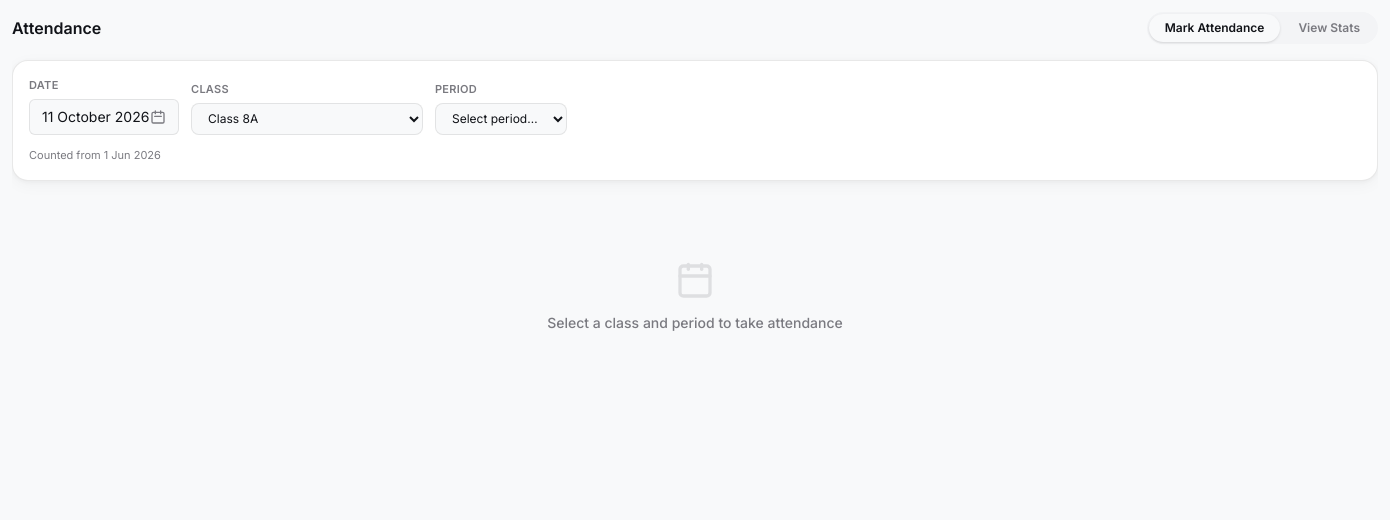
TeacherAttendancePanel: a class with no school year start date › C5: the option says '(attendance not set up)'; choosing it shows the notice, no 'Mark all present', Period disabled, 'Check again'
Select "P1" in the dropdown labelled "Period". click: x=501, y=119
box: left=435, top=103, right=567, bottom=135
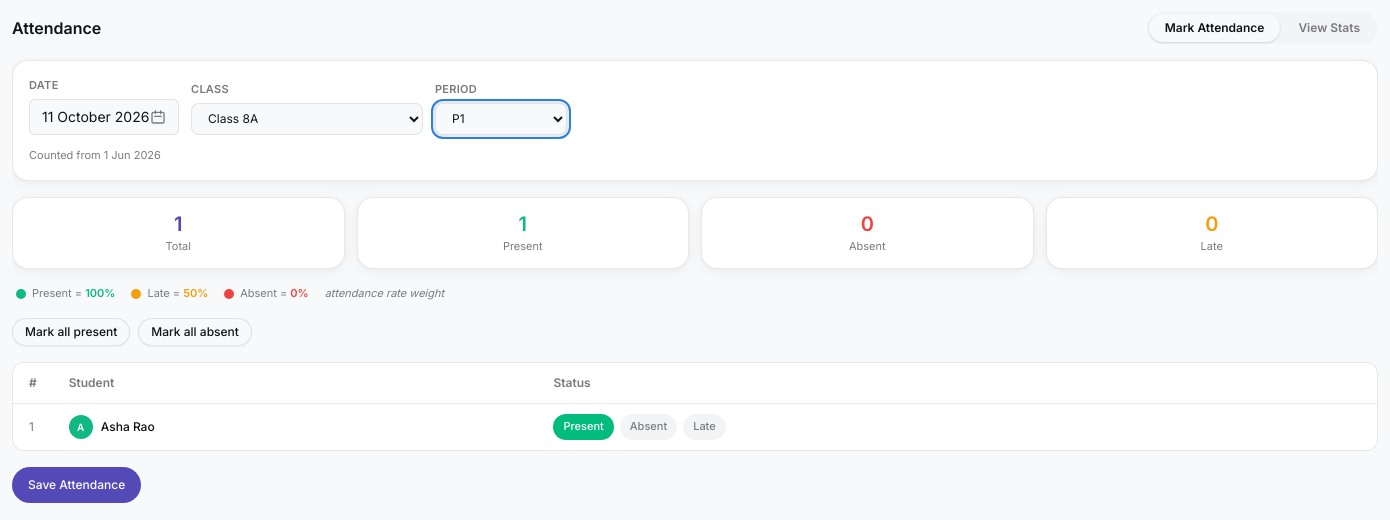
Check: the button "Mark all present" is shown, box left=12, top=318, right=130, bottom=346
Now the class without a date
Select "Class 8B (attendance not set up)" in the dropdown labelled "Class". click: x=307, y=119
box: left=191, top=103, right=423, bottom=135
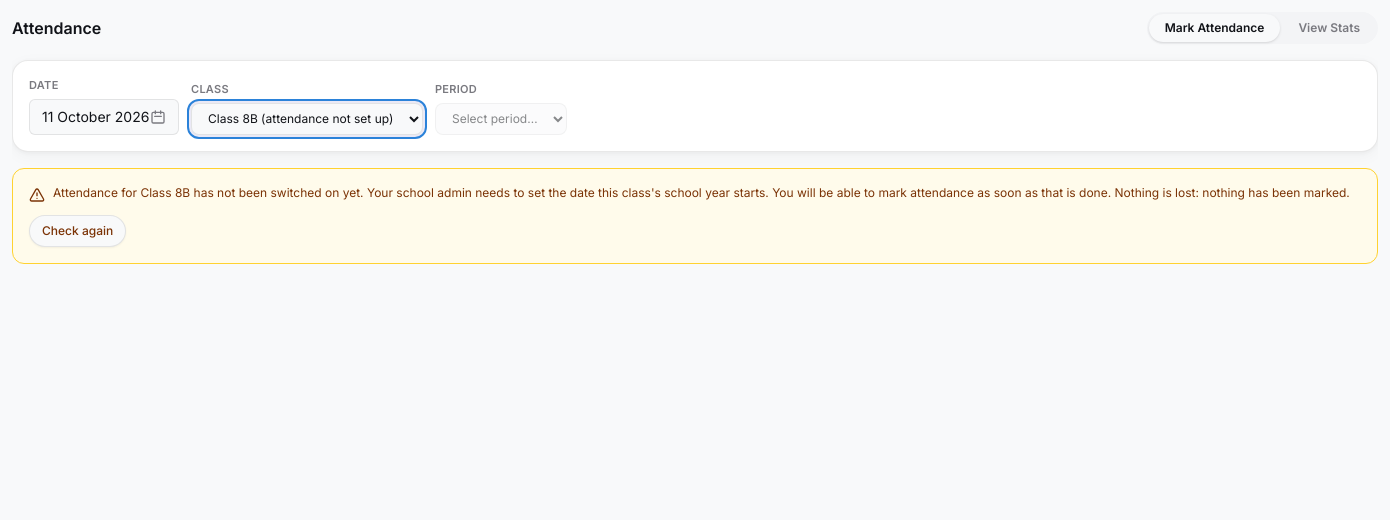
Check: the message shows "Attendance for Class 8B has not been switched on yet. Your school admin needs to set the date this class's school year starts. You will be able to mark attendan", box left=53, top=185, right=1350, bottom=200
Check: the button "Check again" is enabled, box left=29, top=215, right=126, bottom=247
Check: the button "Mark all present" is gone
